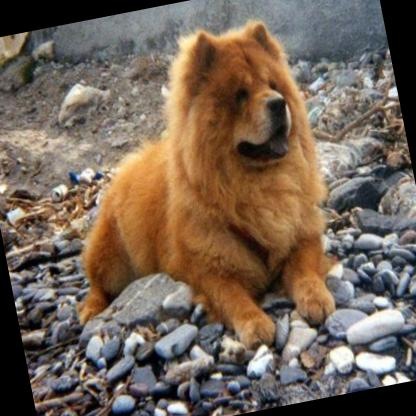chow: (29, 12, 350, 380)
